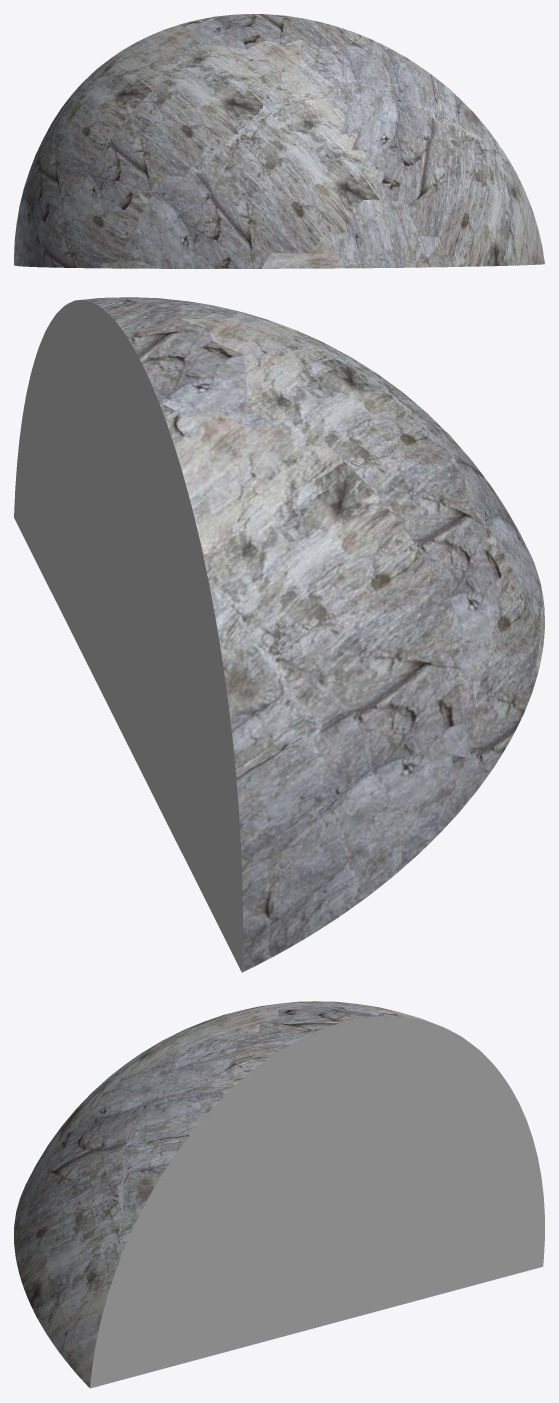
The model's file is sliced_ball3.obj.
3 renders of one model, top to bottom at view 1: azimuth 30°, elevation 25°; view 2: azimuth 150°, elevation 25°; view 3: azimuth 270°, elevation 25°, orthographic. The views are drawn at different scales.
Visible parts, largest first — view 1: Object.1; view 2: Object.1; view 3: Object.1.
Part boxes in pixels (x1,y1,x2,y2): Object.1: (14, 14, 544, 268); Object.1: (14, 297, 544, 972); Object.1: (14, 1001, 544, 1388).
Bounding box in the file's own units: 0.8421 × 0.5654 × 0.8223.
1 material, 1 textured.
